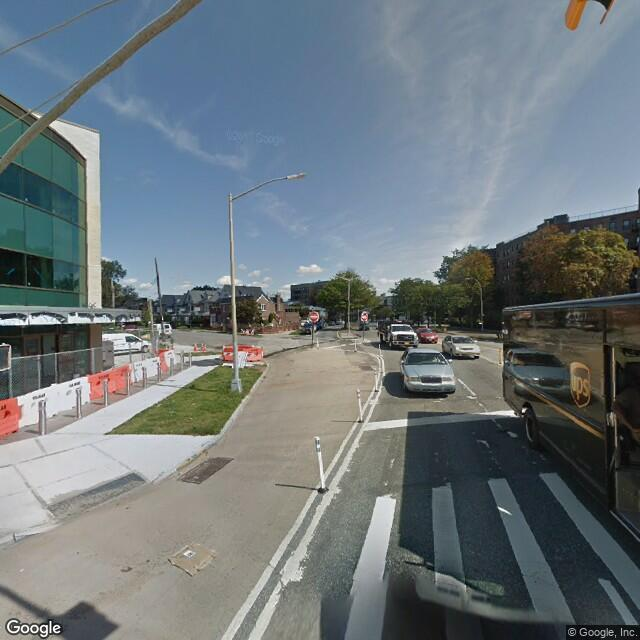litter: (168, 537, 215, 576)
